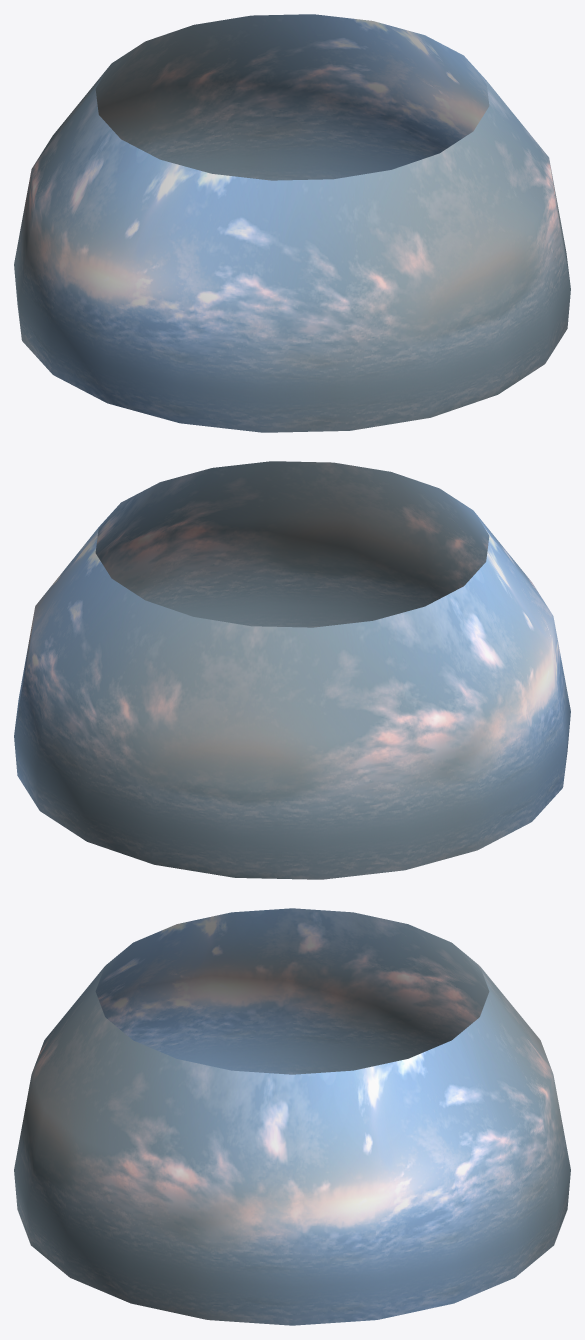
File: sky.fbx
The picture shows the model from 3 angles, top to bottom: view 1: azimuth 30°, elevation 25°; view 2: azimuth 150°, elevation 25°; view 3: azimuth 270°, elevation 25°; orthographic projection.
Parts seen in each view (by area): view 1: pSphere1; view 2: pSphere1; view 3: pSphere1.
Part boxes in pixels (left/top/right/bottom): pSphere1: left=14, top=14, right=570, bottom=432; pSphere1: left=14, top=461, right=570, bottom=879; pSphere1: left=14, top=908, right=570, bottom=1325.
Size of the model in its own units: 2689 by 1161 by 2689.
